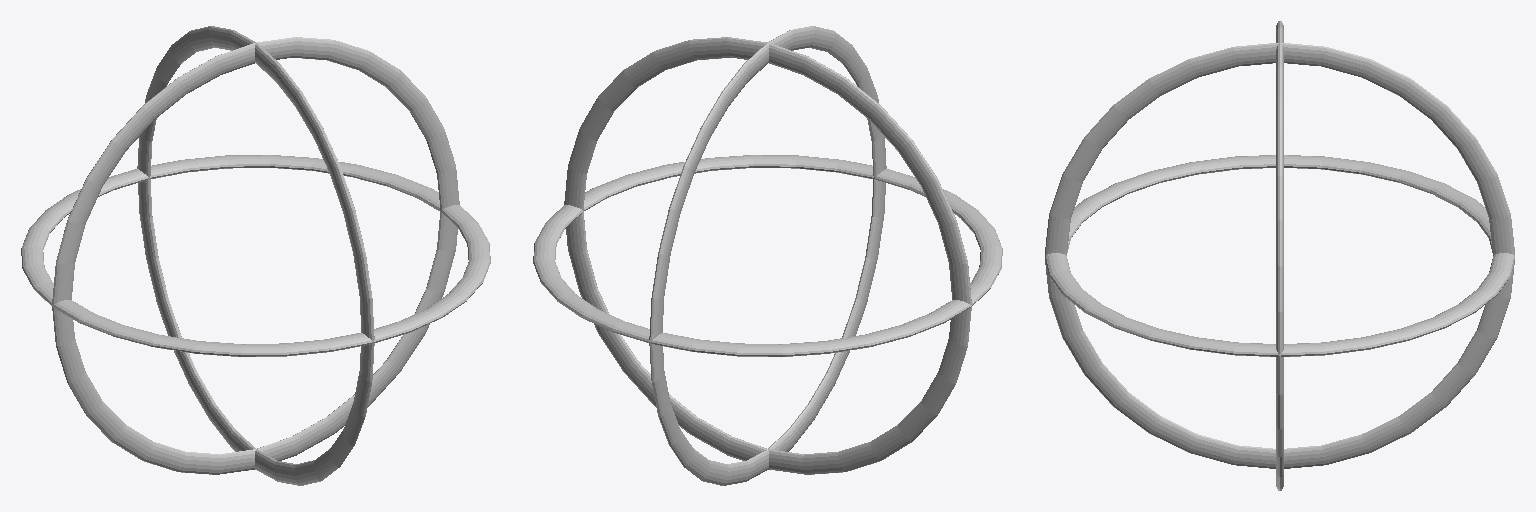
Rendered from rotate.obj.
3 renders of one model, left to right at view 1: azimuth 30°, elevation 25°; view 2: azimuth 150°, elevation 25°; view 3: azimuth 270°, elevation 25°, orthographic.
Parts seen in each view (by area): view 1: green_circle, red_circle, blue_circle; view 2: green_circle, red_circle, blue_circle; view 3: blue_circle, red_circle, green_circle.
Part boxes in pixels (left/top/right/bottom): green_circle: left=52, top=37, right=459, bottom=474; red_circle: left=21, top=155, right=490, bottom=356; blue_circle: left=137, top=26, right=374, bottom=485; green_circle: left=564, top=37, right=971, bottom=474; red_circle: left=533, top=155, right=1002, bottom=356; blue_circle: left=649, top=26, right=886, bottom=485; blue_circle: left=1045, top=43, right=1514, bottom=468; red_circle: left=1045, top=155, right=1514, bottom=356; green_circle: left=1276, top=21, right=1283, bottom=490.
Bounding box in the file's own units: 2.1 × 2.1 × 2.1.